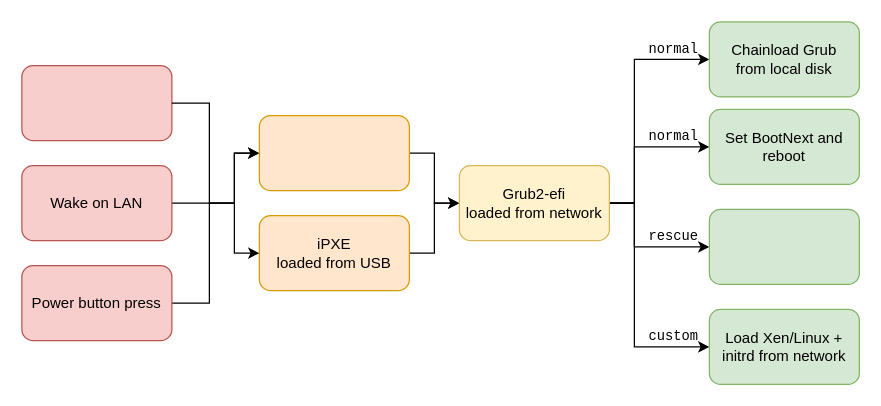
The diagram is 881 pixels wide and 406 high, and some of its shapes have lost their labels. Each missing label, with the centre of its shape:
"Automatic power on" goes at [96,102].
"Load Linux + initrd from network" goes at [783,246].
"PXELinux loaded from network" goes at [333,152].
